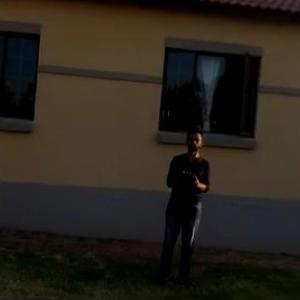follow: (150, 121, 211, 292)
